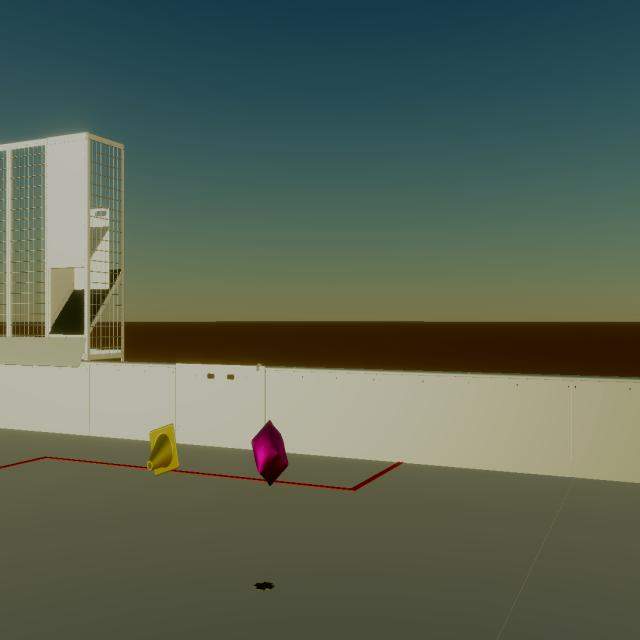frc_cone: (147, 423, 179, 476)
frc_cube: (252, 419, 288, 486)
